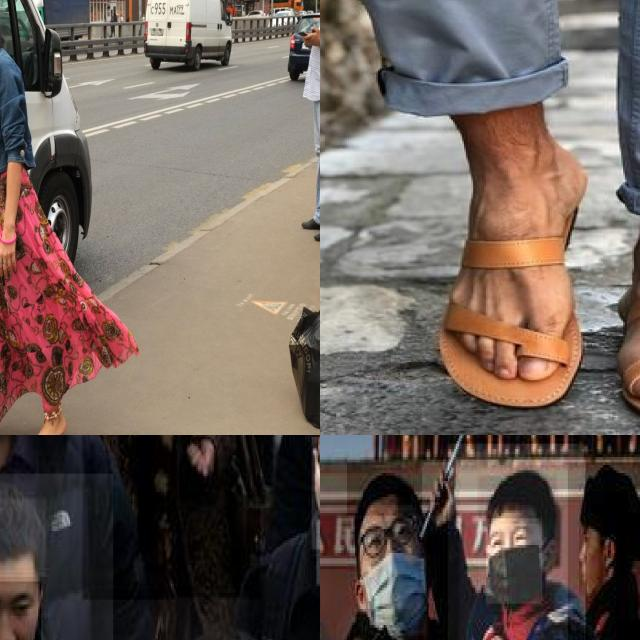Barefoots: (24, 411, 66, 435)
No_Ear-Protection: (542, 531, 562, 577), (602, 534, 616, 570)
Sandals: (437, 137, 586, 406)
face_mask: (360, 505, 427, 636), (486, 518, 542, 604)
face_nomask: (0, 581, 42, 640), (579, 524, 603, 593)
glasses: (361, 514, 415, 560)
head_nohelmet: (347, 462, 422, 516), (478, 476, 557, 524), (0, 499, 45, 577)
person: (0, 435, 169, 640), (82, 435, 260, 599), (447, 443, 585, 640), (320, 470, 460, 640), (0, 473, 115, 640), (247, 435, 320, 640), (567, 462, 640, 640)
